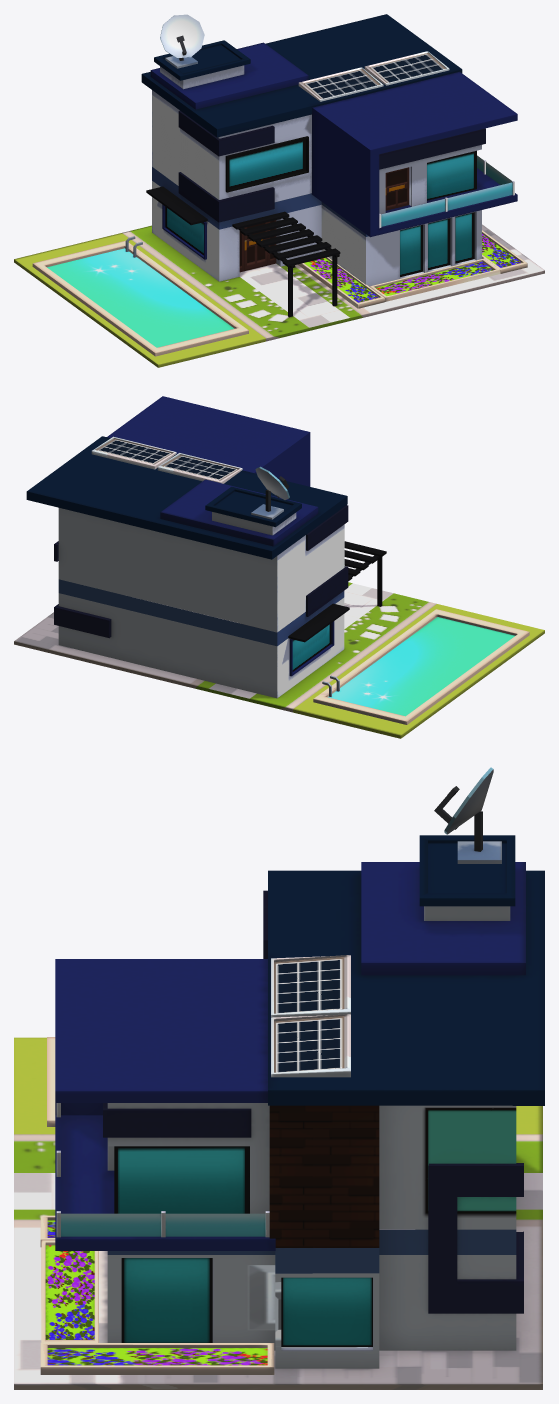
File: Tx_Building_PH_6_onclicked.fbx
3 views of the same model, one above another, from view 1: azimuth 30°, elevation 25°; view 2: azimuth 150°, elevation 25°; view 3: azimuth 270°, elevation 25° (orthographic). The views are drawn at different scales.
Visible parts, largest first — view 1: Building, Swimming_pool, Flower_Bed, Satelite_dish, Flower_Bed2, Solar_Panel, Solar_Panel1, Flower_Bed1; view 2: Building, Swimming_pool, Solar_Panel1, Solar_Panel, Satelite_dish; view 3: Building, Flower_Bed1, Flower_Bed, Solar_Panel1, Solar_Panel, Satelite_dish, Swimming_pool.
Part boxes in pixels (x1,y1,x2,y2): Building: (14,14,544,367); Swimming_pool: (32,236,248,356); Flower_Bed: (369,258,500,301); Satelite_dish: (160,14,204,68); Flower_Bed2: (298,257,384,308); Solar_Panel: (298,67,383,101); Solar_Panel1: (364,51,449,85); Flower_Bed1: (482,230,527,273); Building: (14,396,544,738); Swimming_pool: (313,609,529,724); Solar_Panel1: (91,436,176,469); Solar_Panel: (157,453,242,483); Satelite_dish: (251,466,289,519); Building: (14,835,544,1389); Flower_Bed1: (40,1343,274,1374); Flower_Bed: (41,1239,98,1342); Solar_Panel1: (271,1014,350,1077); Solar_Panel: (271,955,350,1017); Satelite_dish: (434,767,501,863); Swimming_pool: (47,1037,55,1126).
Size of the model in its own units: 53.43 by 29.26 by 34.62.
